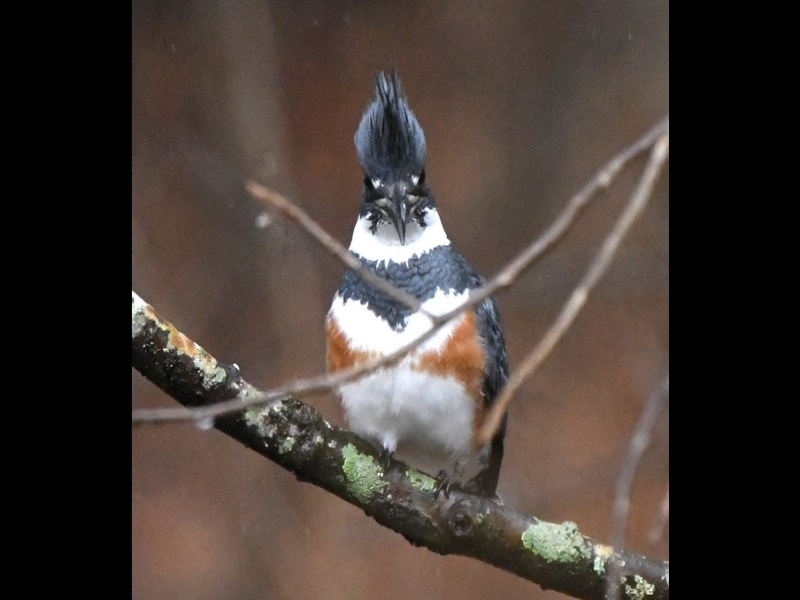kingfisher: (319, 66, 517, 511)
